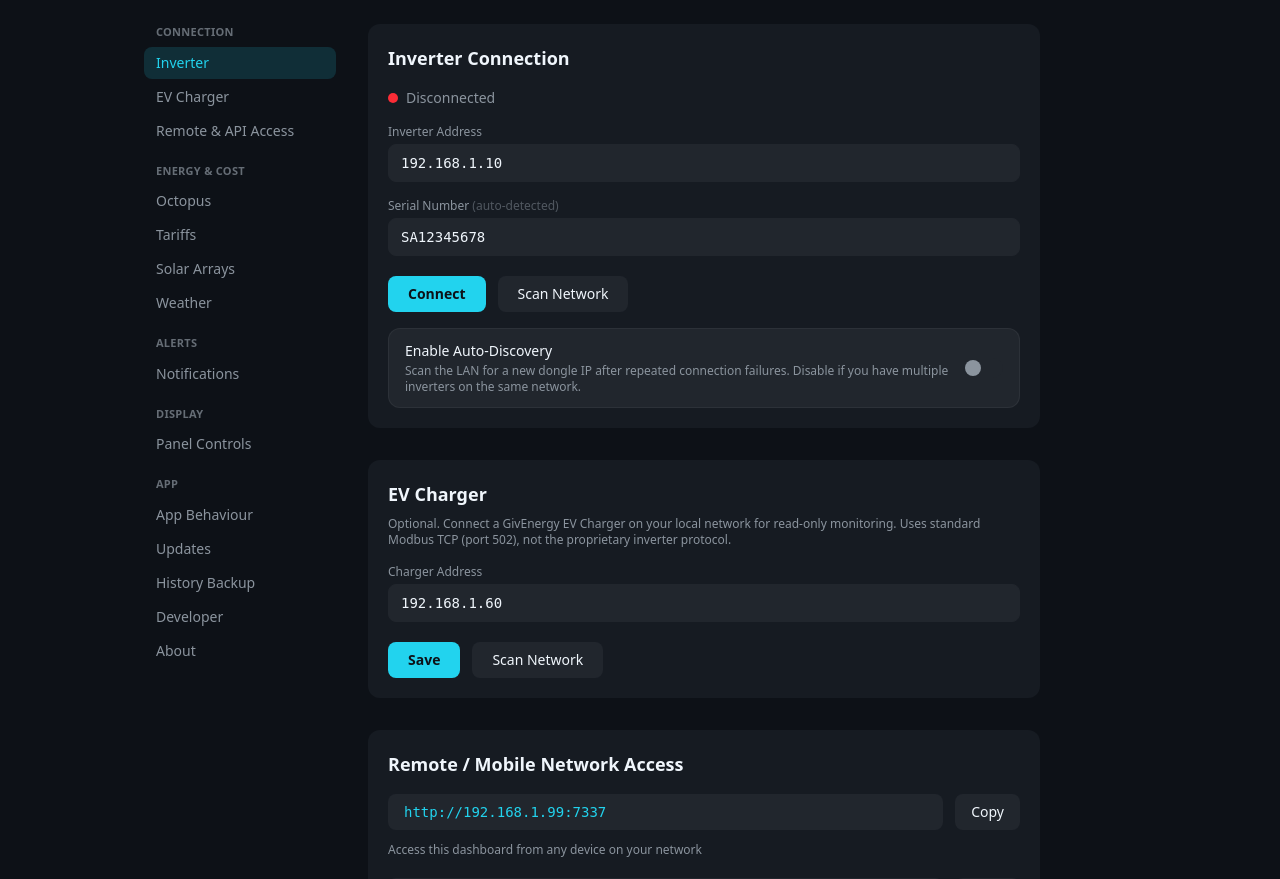
Test case: <SettingsPage/> — EV charger › says the charger is disabled when the address is cleared
The width and height of the screenshot is (1280, 879).
Clear the field with placeholder "e.g. 192.168.1.50 (leave blank to disable)" at point(704, 603), box [388,584,1020,622]
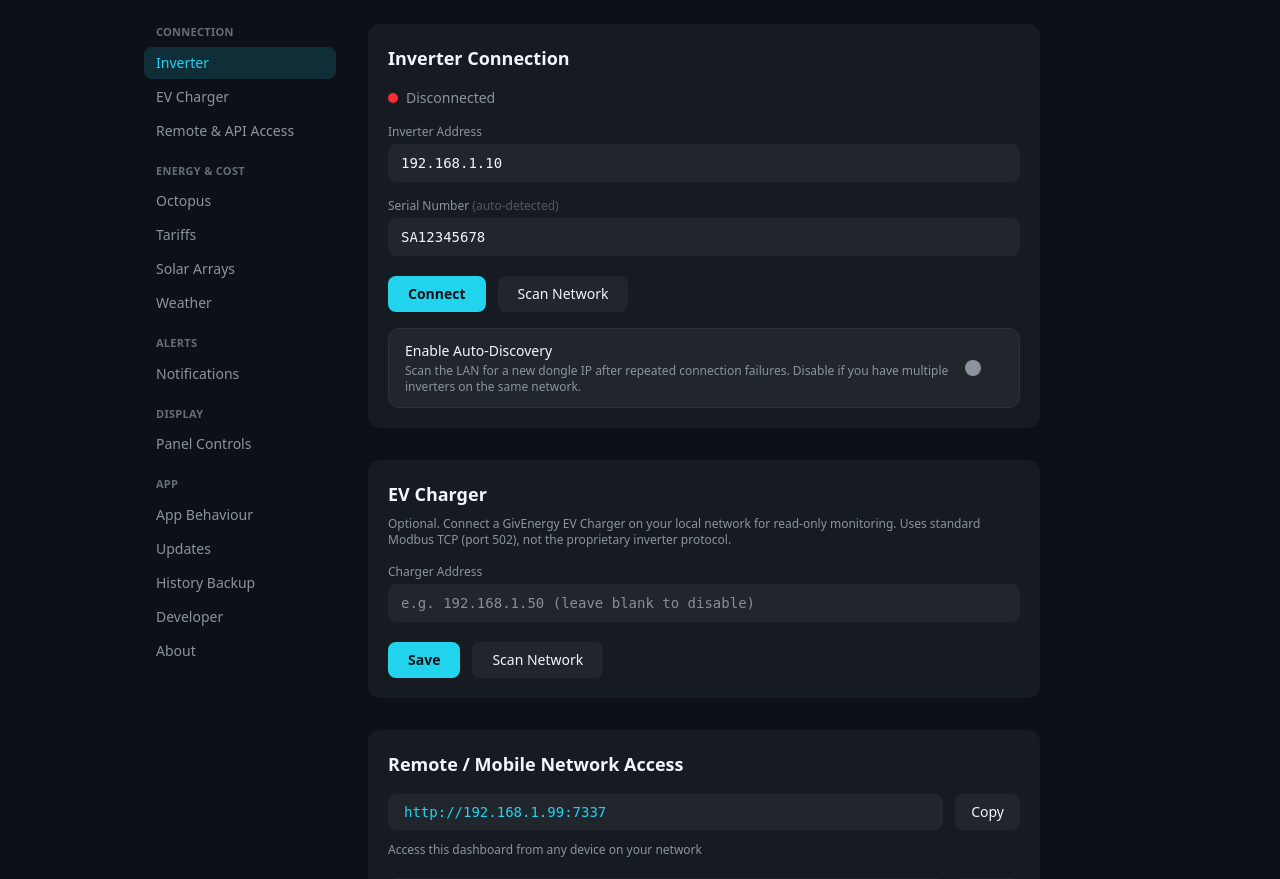
Click the button "Save" at point(424, 660), box [388,642,460,678]
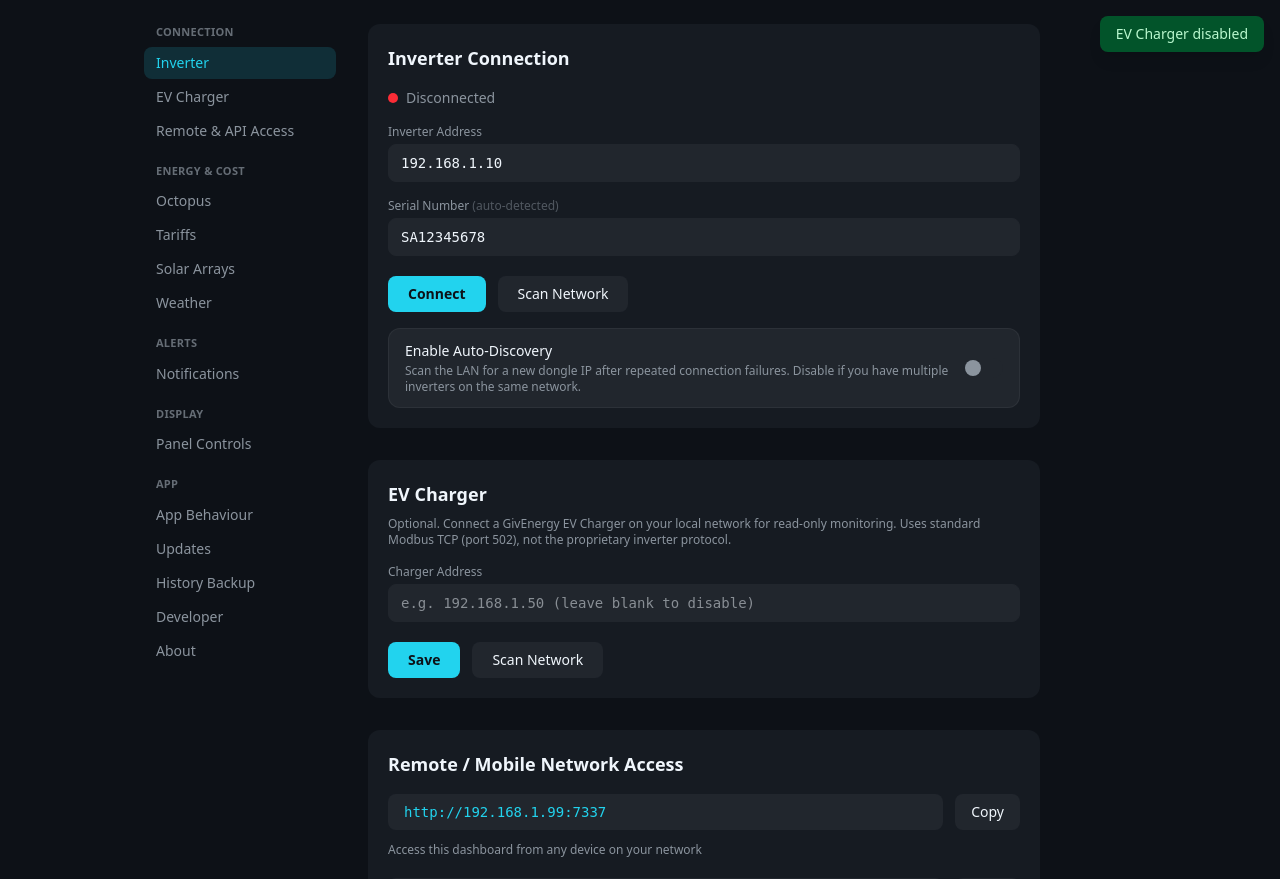
Check: the text "EV Charger disabled" is shown, box [1100,16,1264,52]
